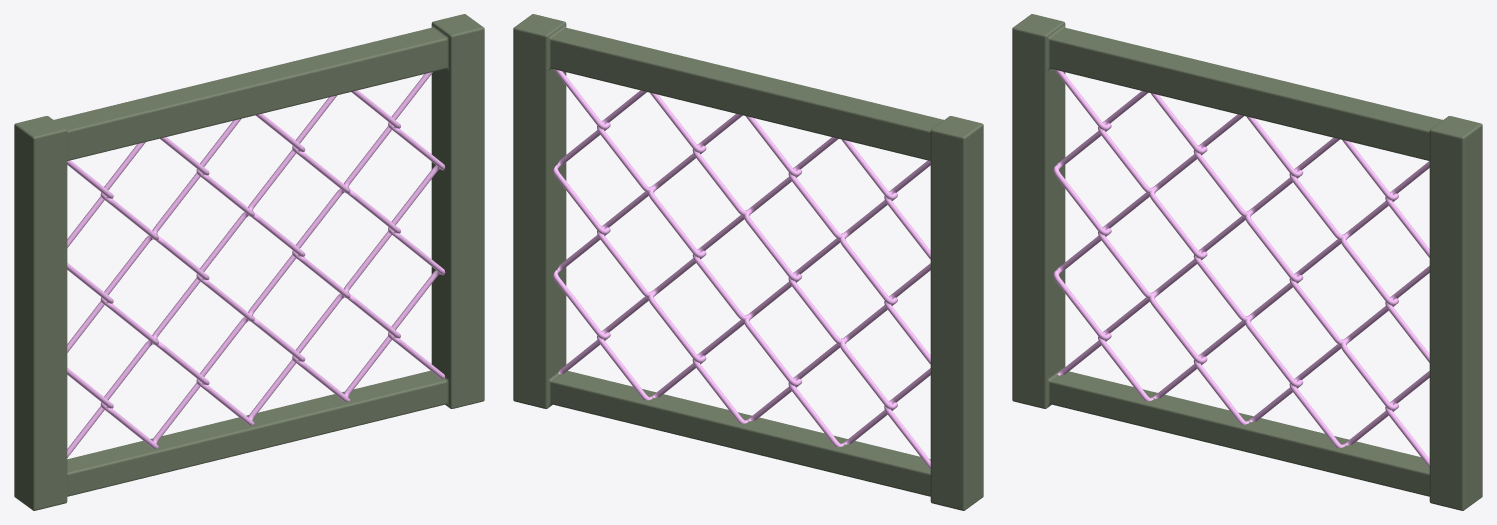
Rendered from Hurdle 4 Fence 01.fbx.
3 views of the same model, side by side, from view 1: azimuth 30°, elevation 25°; view 2: azimuth 150°, elevation 25°; view 3: azimuth 330°, elevation 25° (orthographic).
Visible parts, largest first — view 1: Cube.001, Cube; view 2: Cube.001, Cube; view 3: Cube.001, Cube.
Boxes of the visible parts, x1,y1,x2,y2 form: Cube.001: (14, 14, 484, 510); Cube: (67, 72, 445, 457); Cube.001: (513, 14, 983, 510); Cube: (553, 69, 930, 469); Cube.001: (1012, 14, 1482, 510); Cube: (1053, 70, 1429, 467).
Bounding box in the file's own units: 1283 × 1015 × 98.02.
Materials: 1 (1 with a texture image).
